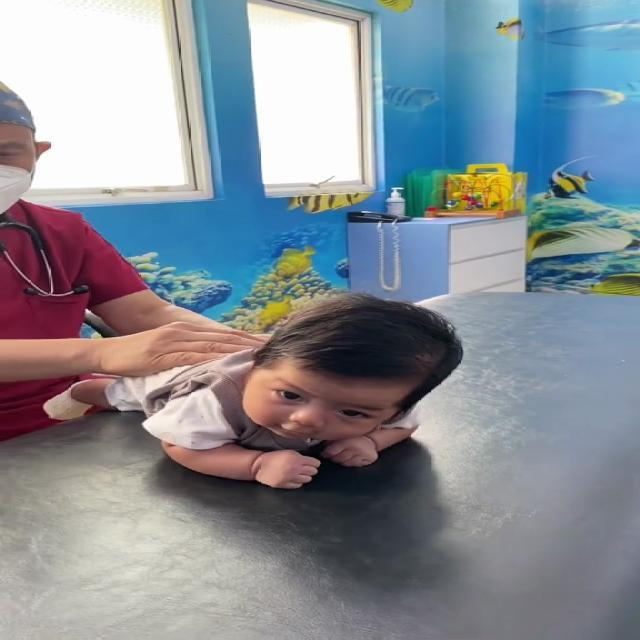baby: (35, 299, 469, 500)
